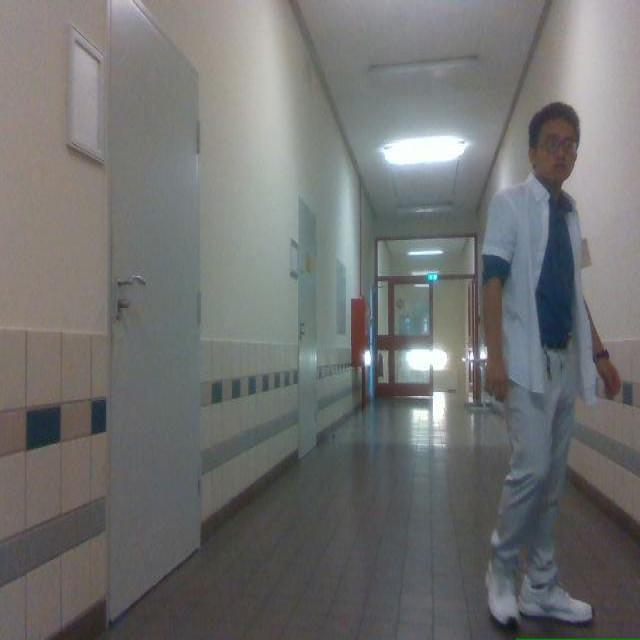humans: (483, 103, 619, 623)
